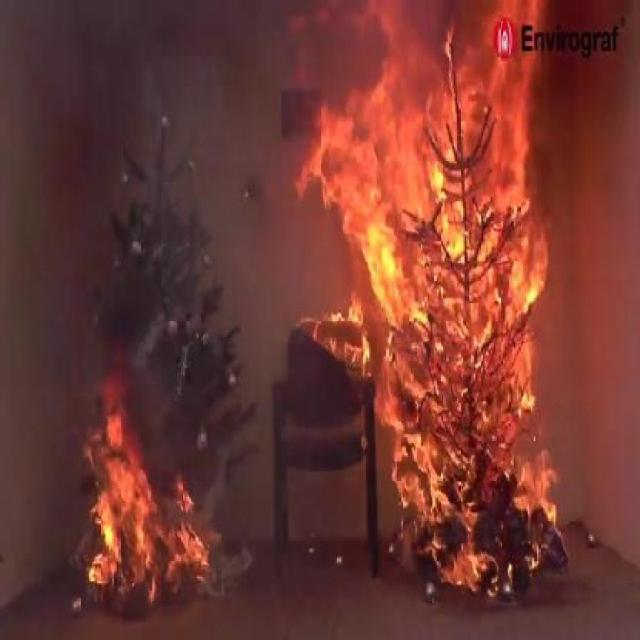fire: (302, 66, 564, 583), (85, 414, 186, 608)
smoke: (35, 28, 292, 377)
